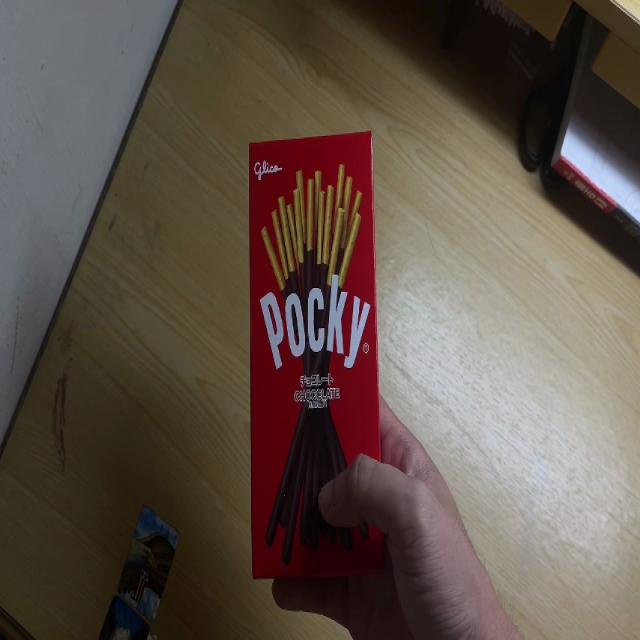Pocky: (248, 130, 390, 579)
